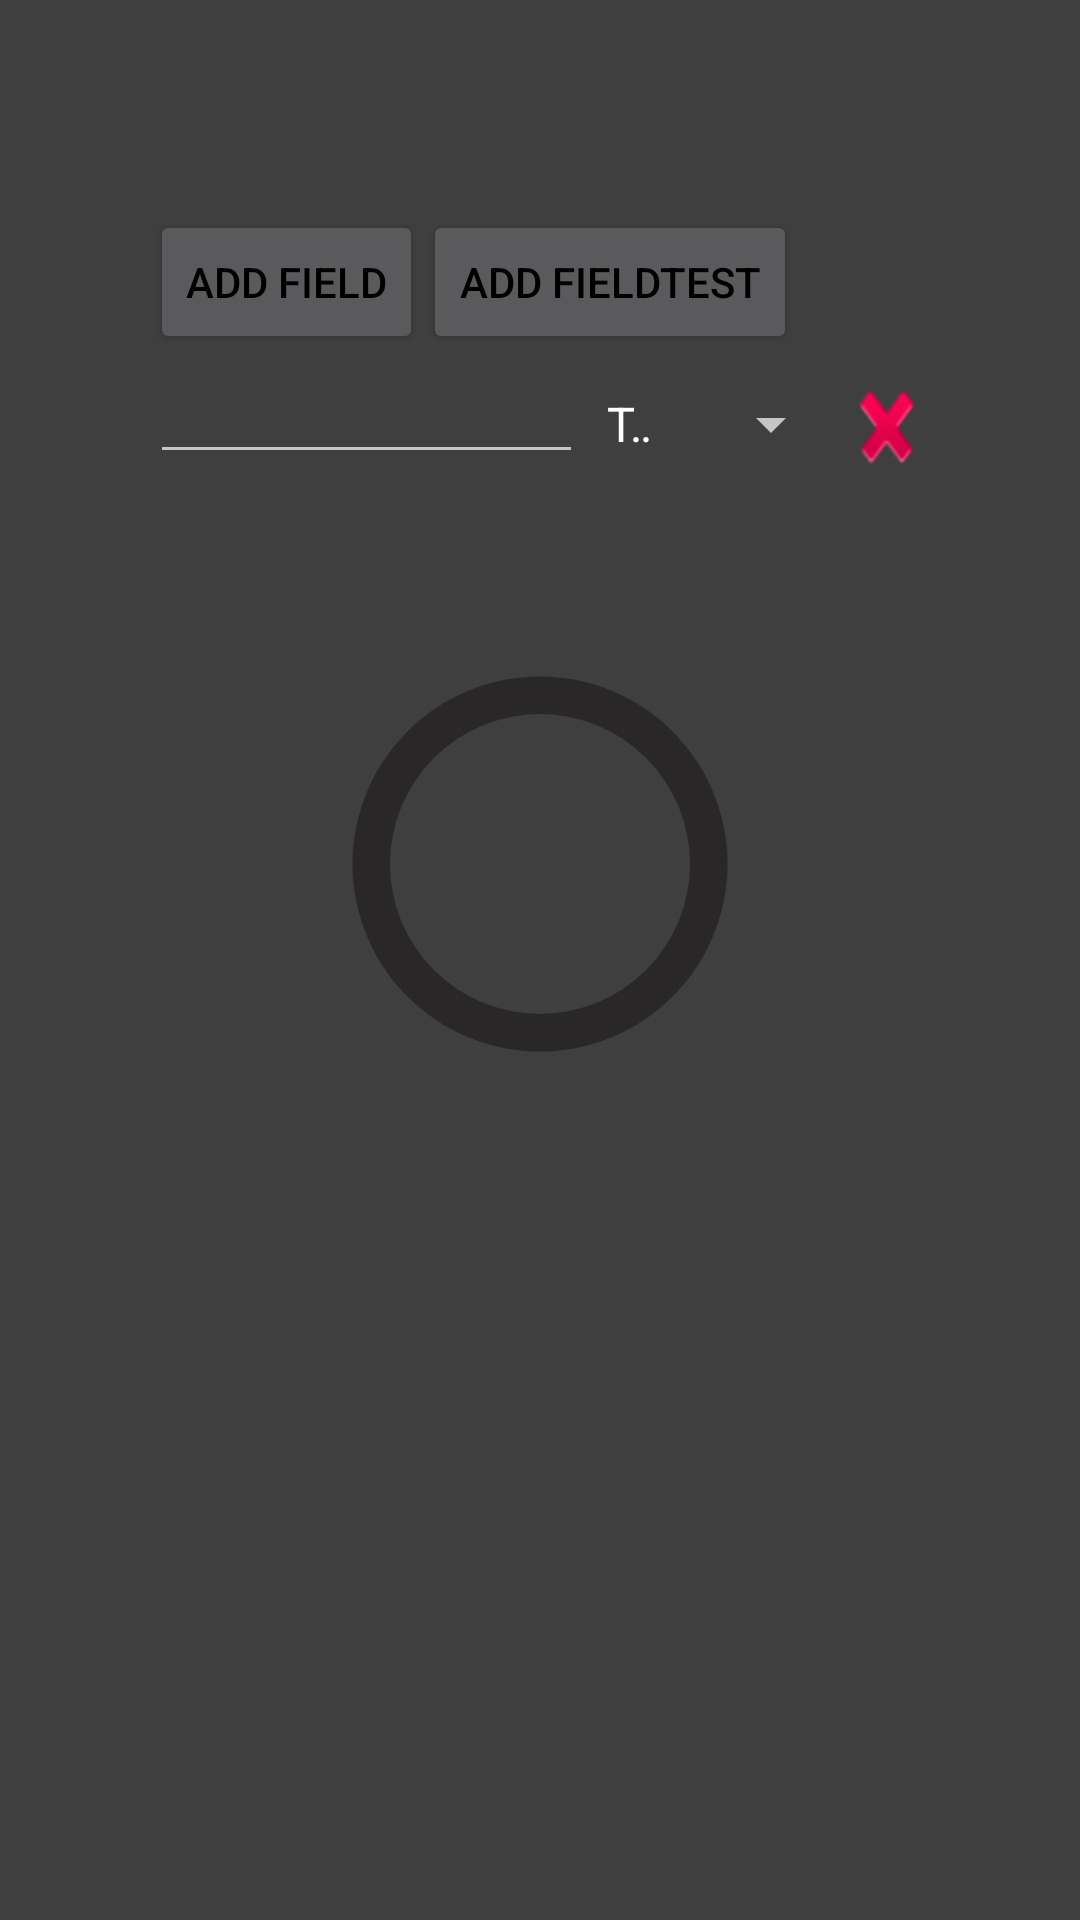

Where icons sit on this 1080 × 1920 app screen, as (x1, y1, x2, y2):
delete: (859, 390, 914, 464)
